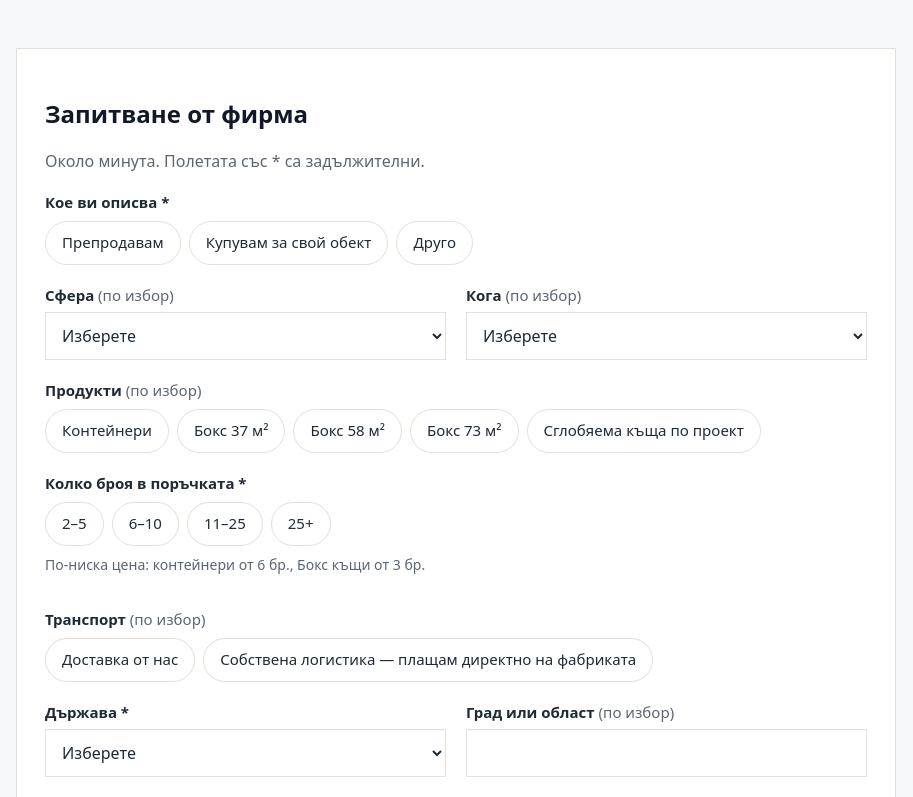
Scenario: PartnerEnquiry › rejects an email that is not one
Click the radio button labelled "Препродавам": [113, 243] box [45,221,181,265]
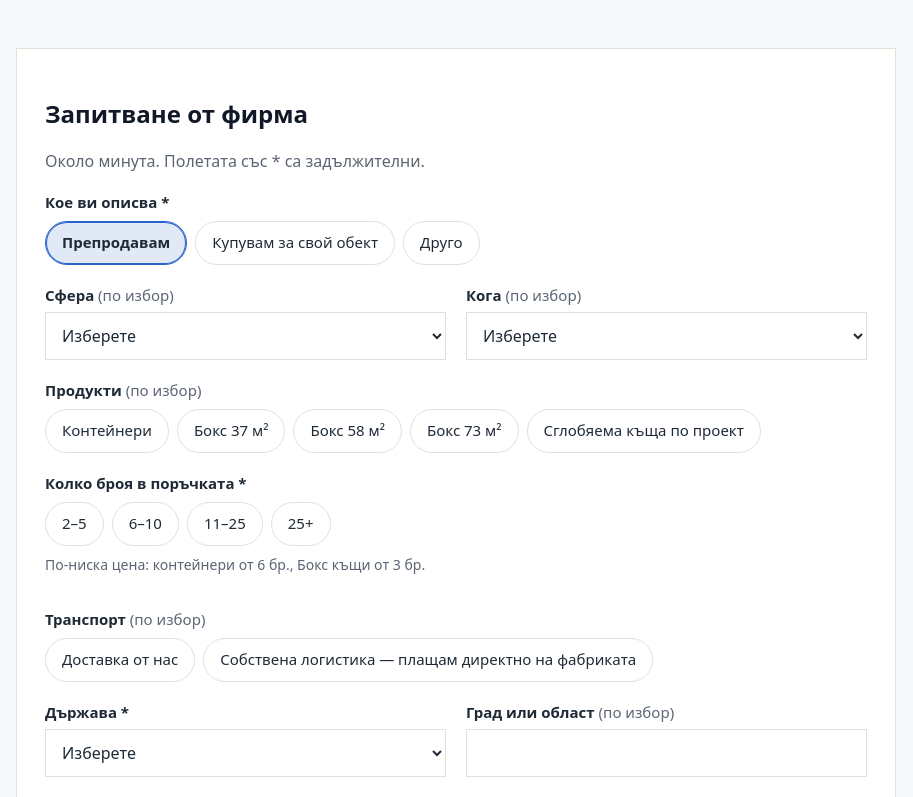
Click the radio button labelled "6–10": [145, 524] box [112,502,179,546]
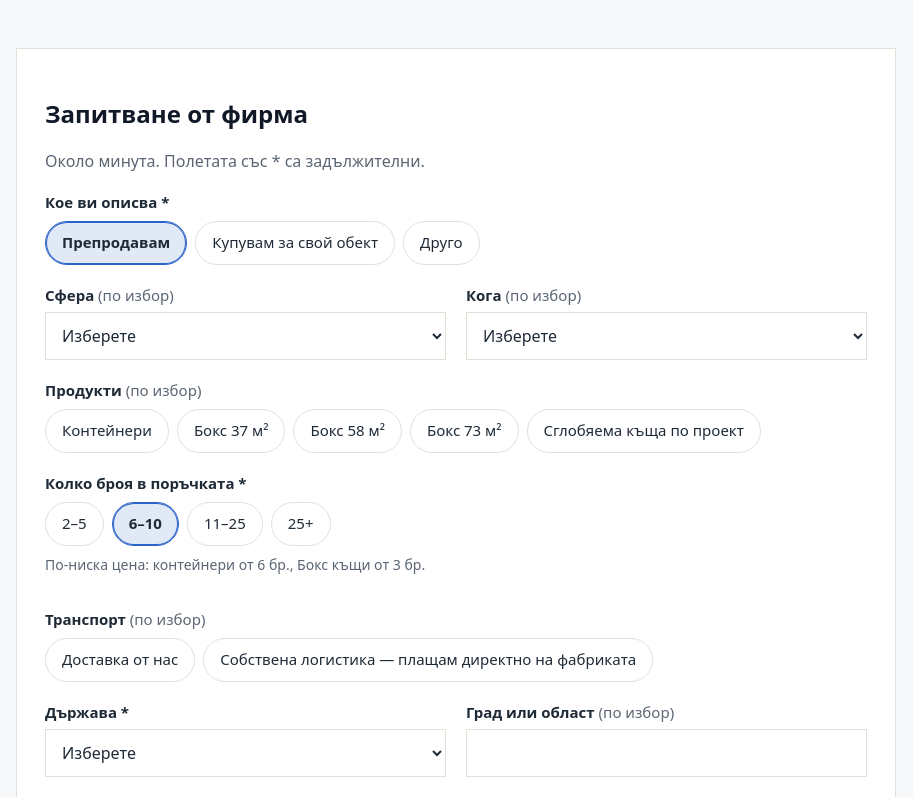
Select "Гърция" in the dropdown labelled "Държава *": [246, 753] box [45,729,446,777]
(page scrolled)
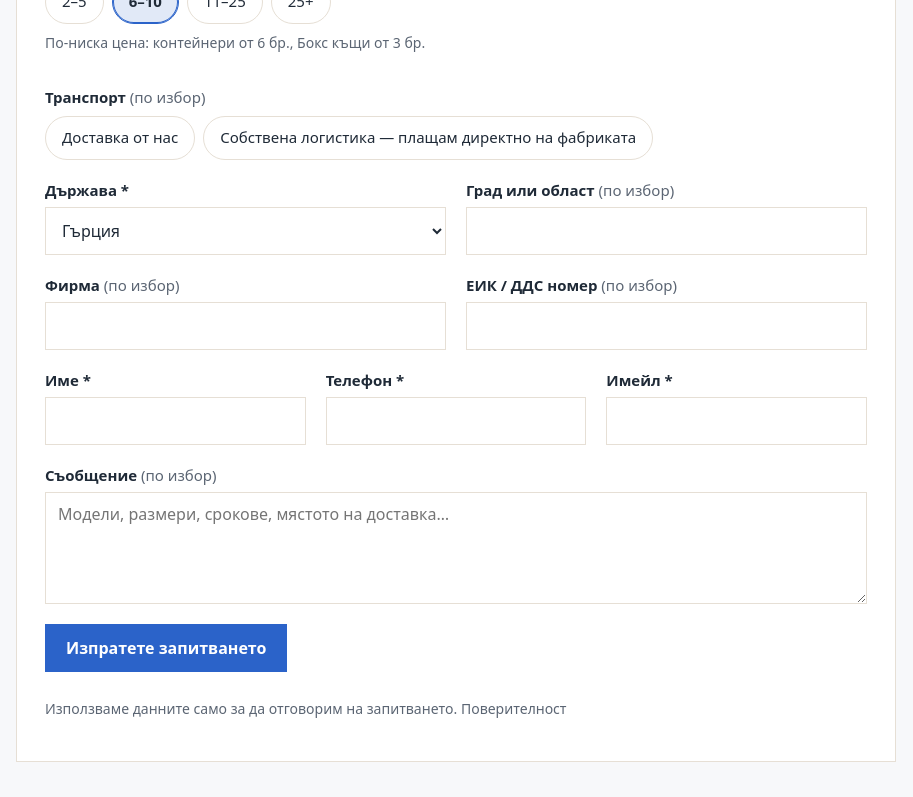
In the field labelled "Име *": [175, 421] box [45,397,306,445], type "  Νίκος Παπαδόπουλος "
In the field labelled "Телефон *": [456, 421] box [326,397,586,445], type "+30 69 1234 5678"
In the field labelled "Имейл *": [737, 421] box [606,397,867,445], type "nikos@example.gr"
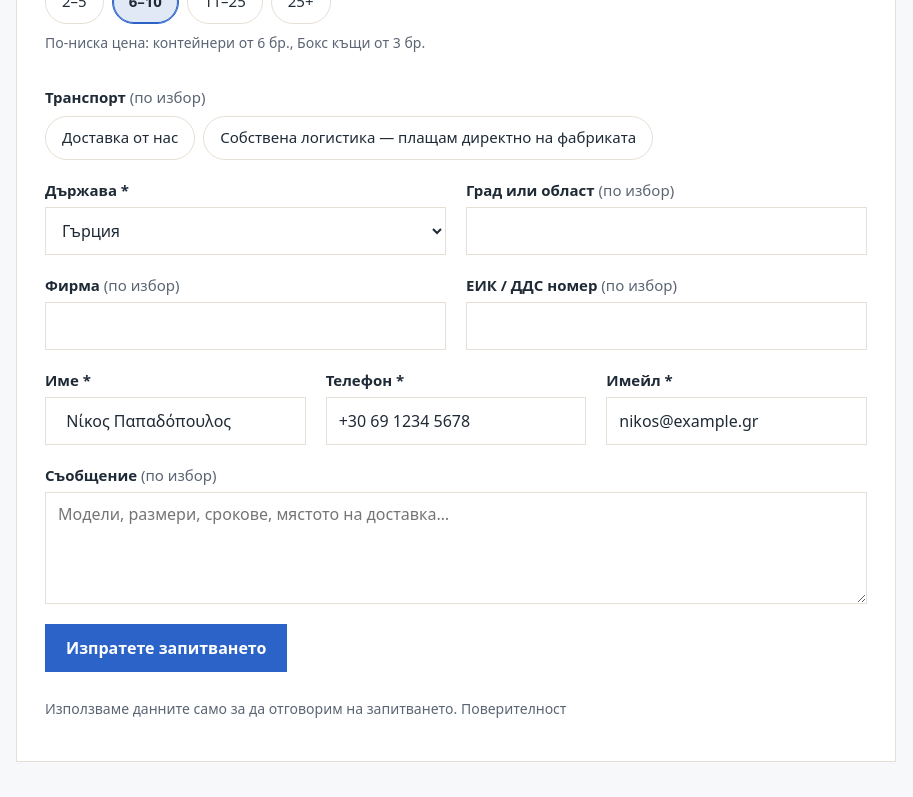
Replace the text in the field labelled "Имейл *" with "nikos.example.gr": [737, 421] box [606,397,867,445]
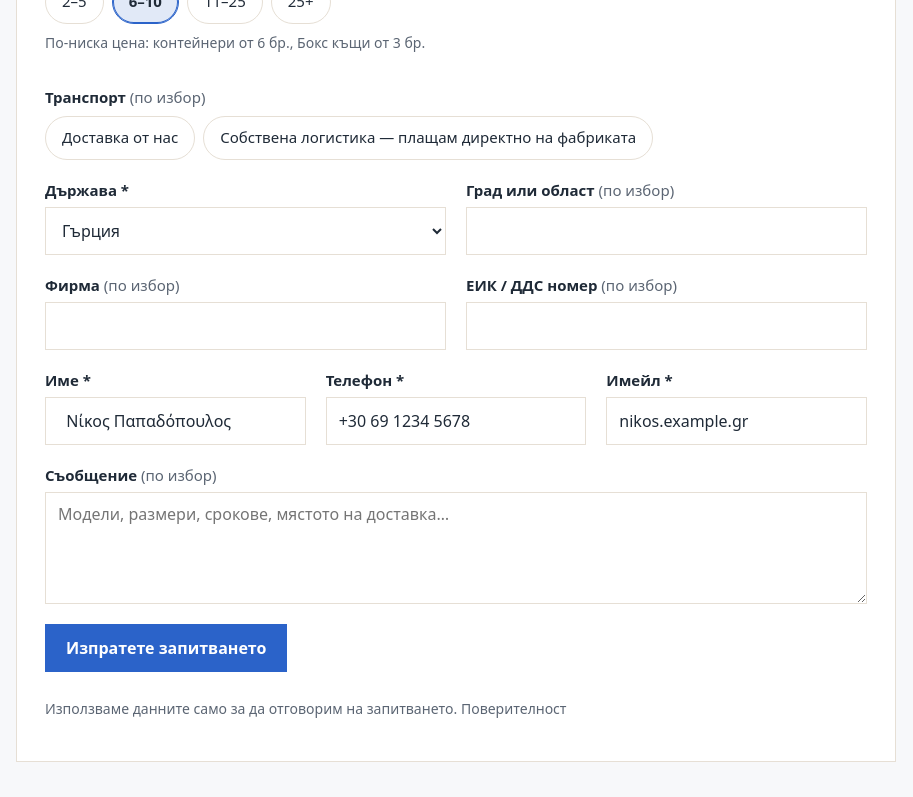
Click the button "Изпратете запитването": [166, 648] box [45,624,287,672]
(page scrolled)
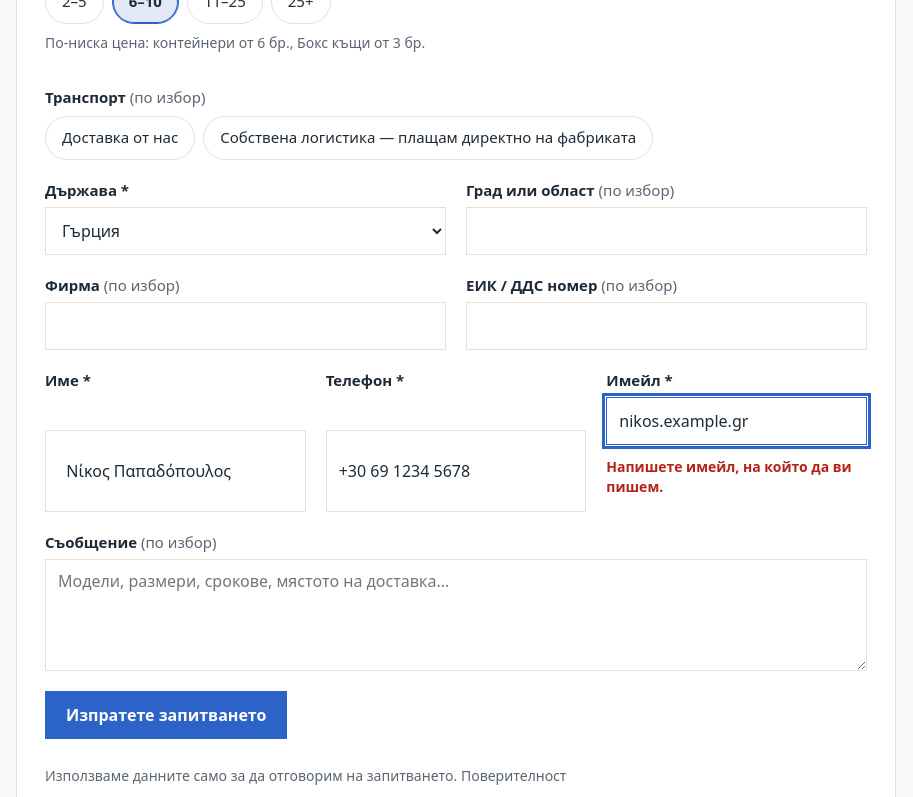
Expected: the text "Напишете имейл, на който да ви пишем." is shown, [606,457,867,498]
